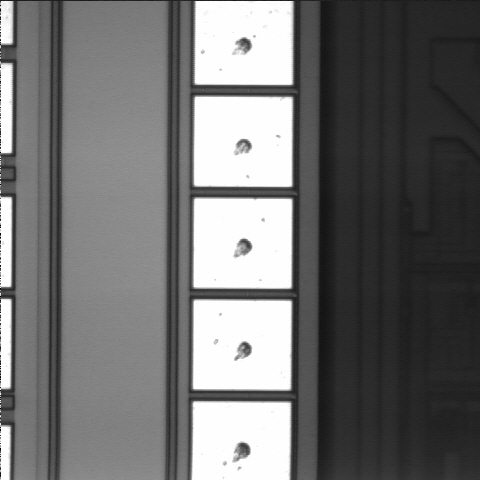pad: (194, 198, 292, 289), (194, 97, 292, 187), (193, 300, 291, 390)
